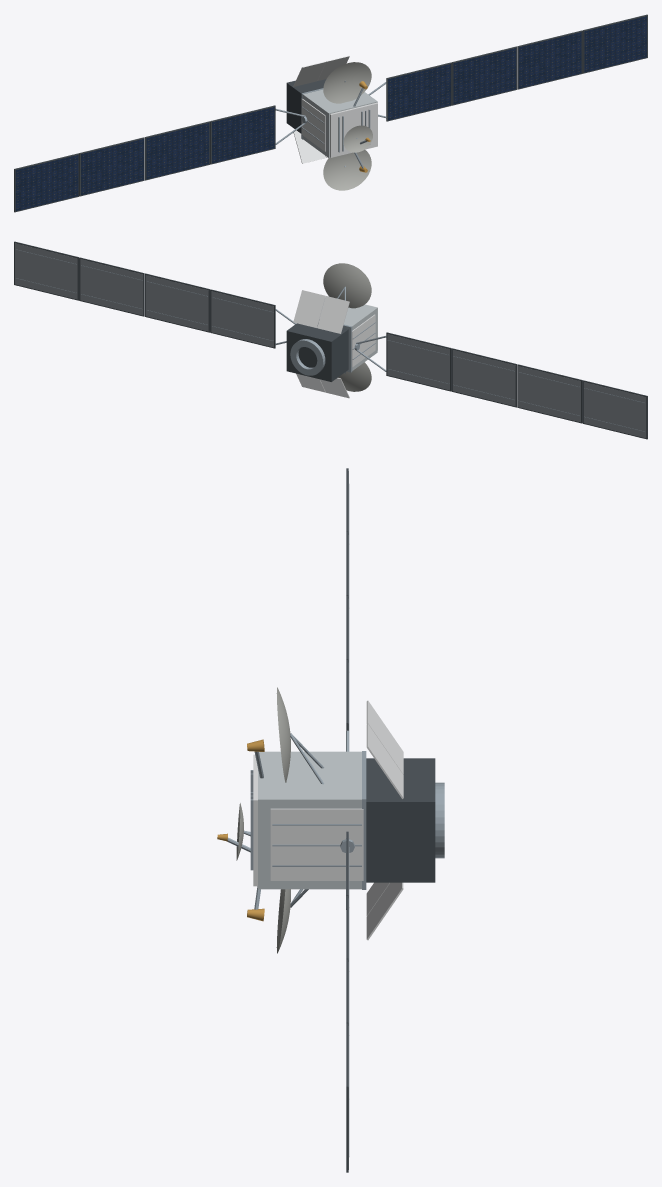
Rendered from ssl-1300-protostar.glb.
The picture shows the model from 3 angles, top to bottom: view 1: azimuth 30°, elevation 25°; view 2: azimuth 150°, elevation 25°; view 3: azimuth 270°, elevation 25°; orthographic projection. The views are drawn at different scales.
Parts seen in each view (by area): view 1: Solar cell panel (×8), Solar panel frame (×8), Communications reflector (×2), Earth-facing deck, Deployed radiator leaf (×3), Payload module, Service module, Radiator face, Deck-mounted reflector; view 2: Rear array substrate (×8), Solar panel frame (×8), Service module, Deployed radiator leaf (×4), Communications reflector (×2), Radiator face, Launch adapter ring, Payload module; view 3: Service module, Payload module, Radiator face, Deployed radiator leaf.
Part boxes in pixels (x1,y1,x2,y2): Solar cell panel (×8): [15, 16, 646, 211]; Solar panel frame (×8): [14, 14, 647, 212]; Communications reflector (×2): [323, 62, 371, 190]; Earth-facing deck: [330, 102, 377, 157]; Deployed radiator leaf (×3): [293, 55, 349, 163]; Payload module: [303, 89, 377, 157]; Service module: [286, 79, 326, 133]; Radiator face: [301, 99, 325, 151]; Deck-mounted reflector: [343, 125, 372, 152]; Rear array substrate (×8): [15, 243, 646, 438]; Solar panel frame (×8): [14, 241, 647, 439]; Service module: [286, 323, 348, 381]; Deployed radiator leaf (×4): [293, 290, 349, 398]; Communications reflector (×2): [323, 263, 371, 391]; Radiator face: [351, 314, 375, 367]; Launch adapter ring: [290, 339, 325, 375]; Payload module: [321, 296, 377, 370]; Service module: [366, 758, 435, 882]; Payload module: [258, 751, 361, 889]; Radiator face: [270, 808, 363, 880]; Deployed radiator leaf: [366, 724, 403, 798].
Size of the model in its own units: 31.07 by 5.96 by 4.82.
8 materials, 1 textured.
